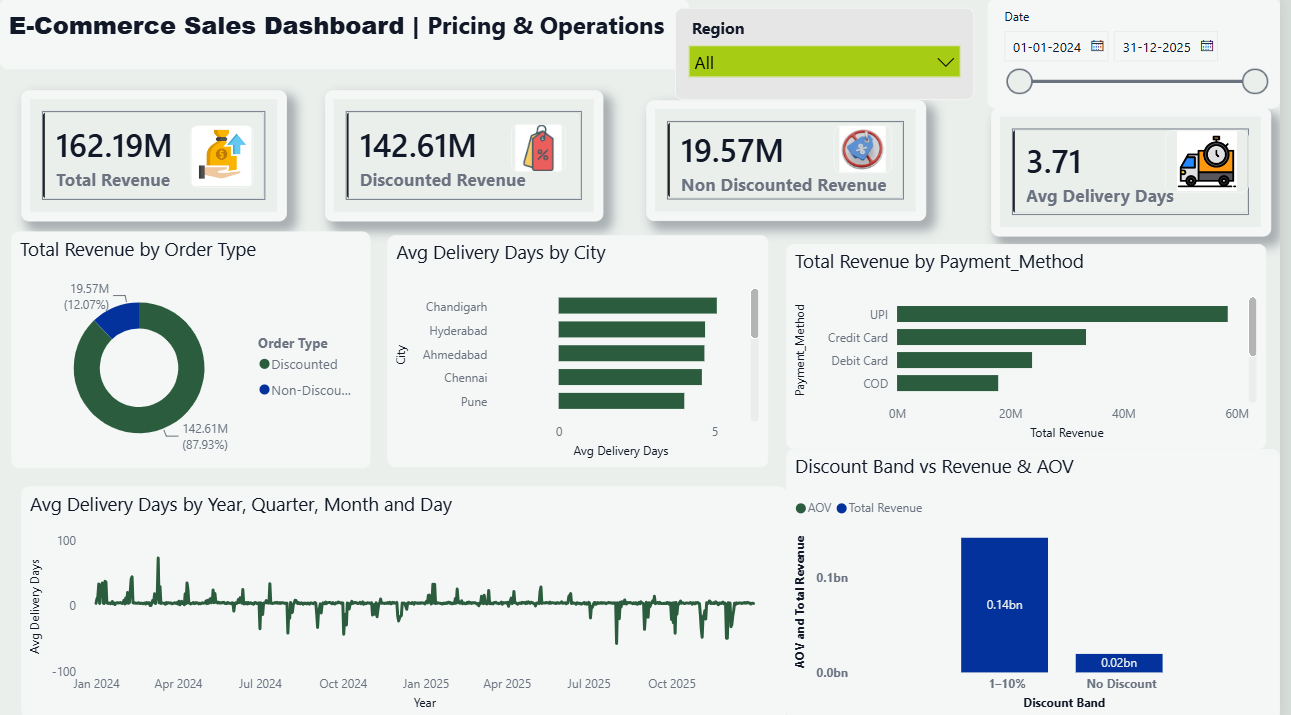

What the dashboard file says about the page in this screenshot:
{"tool":"powerbi","page":{"name":"Pricing & Operations","canvas":[1280,720],"ordinal":3},"visuals":[{"type":"cardVisual","fields":{"Data":["Clean_Data.Total Revenue"]},"box":[21.6,91.6,266,131.1],"z":0},{"type":"cardVisual","fields":{"Data":["Clean_Data.Non Discounted Revenue"]},"box":[646.5,101.8,280,120.9],"z":1000},{"type":"cardVisual","fields":{"Data":["Clean_Data.Avg Delivery Days"]},"box":[991.4,108.2,280,128.5],"z":2000},{"type":"cardVisual","fields":{"Data":["Clean_Data.Discounted Revenue"]},"box":[324.5,91.6,278.7,131.1],"z":3000},{"type":"donutChart","fields":{"Category":["Clean_Data.Order Type"],"Y":["Clean_Data.Total Revenue"]},"box":[10.7,232.2,359,236.8],"z":4000},{"type":"columnChart","title":"Discount Band vs Revenue & AOV","fields":{"Category":["Clean_Data.Discount Band"],"Y":["Clean_Data.AOV","Clean_Data.Total Revenue"]},"box":[786.5,450.5,493.5,270.4],"z":5000},{"type":"lineChart","fields":{"Y":["Clean_Data.Avg Delivery Days"],"Category":["DateTable.Date.Variation.Date Hierarchy.Year","DateTable.Date.Variation.Date Hierarchy.Quarter","DateTable.Date.Variation.Date Hierarchy.Month","DateTable.Date.Variation.Date Hierarchy.Day"]},"box":[21.4,487.4,765.4,232.2],"z":6000},{"type":"clusteredBarChart","fields":{"Category":["Clean_Data.City"],"Y":["Clean_Data.Avg Delivery Days"]},"box":[388.1,236.8,380.4,232.2],"z":7000},{"type":"barChart","fields":{"Category":["Clean_Data.Payment_Method"],"Y":["Clean_Data.Total Revenue"]},"box":[786.8,244.5,479.7,204.7],"z":8000},{"type":"textbox","box":[0,0,689,70.3],"z":9000},{"type":"slicer","fields":{"Values":["Clean_Data.Region"]},"box":[674.5,8.9,299.1,91.6],"z":10000},{"type":"slicer","fields":{"Values":["DateTable.Date"]},"box":[987.6,0,292.7,109.4],"z":11000},{"type":"image","box":[189.6,126,63.6,62.4],"z":12000},{"type":"image","box":[1164.4,131.1,84,62.4],"z":13000},{"type":"image","box":[511.6,124.7,54.7,48.4],"z":14000},{"type":"image","box":[833.6,126,58.5,48.4],"z":15000}]}

Visuals, with their boxes in screenshot pixels (x1, y1, x2, y2), scaled from the page's 1280x720 canvas onto the 1291x715 screenshot:
cardVisual - Clean_Data.Total Revenue: 22 91 290 221
cardVisual - Clean_Data.Non Discounted Revenue: 652 101 934 221
cardVisual - Clean_Data.Avg Delivery Days: 1000 107 1282 235
cardVisual - Clean_Data.Discounted Revenue: 327 91 608 221
donutChart - Clean_Data.Order Type x Clean_Data.Total Revenue: 11 231 373 466
"Discount Band vs Revenue & AOV" columnChart: 793 447 1290 714
lineChart - Clean_Data.Avg Delivery Days x DateTable.Date.Variation.Date Hierarchy.Year: 22 484 794 714
clusteredBarChart - Clean_Data.City x Clean_Data.Avg Delivery Days: 391 235 775 466
barChart - Clean_Data.Payment_Method x Clean_Data.Total Revenue: 794 243 1277 446
textbox: 0 0 695 70
slicer - Clean_Data.Region: 680 9 982 100
slicer - DateTable.Date: 996 0 1290 109
image: 191 125 255 187
image: 1174 130 1259 192
image: 516 124 571 172
image: 841 125 900 173
